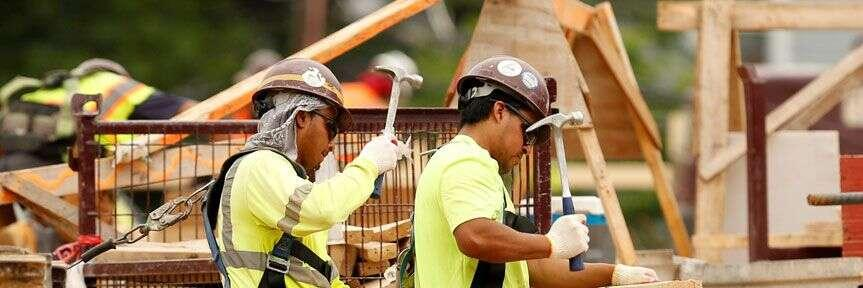helmet: (457, 55, 555, 144), (253, 57, 356, 132)
